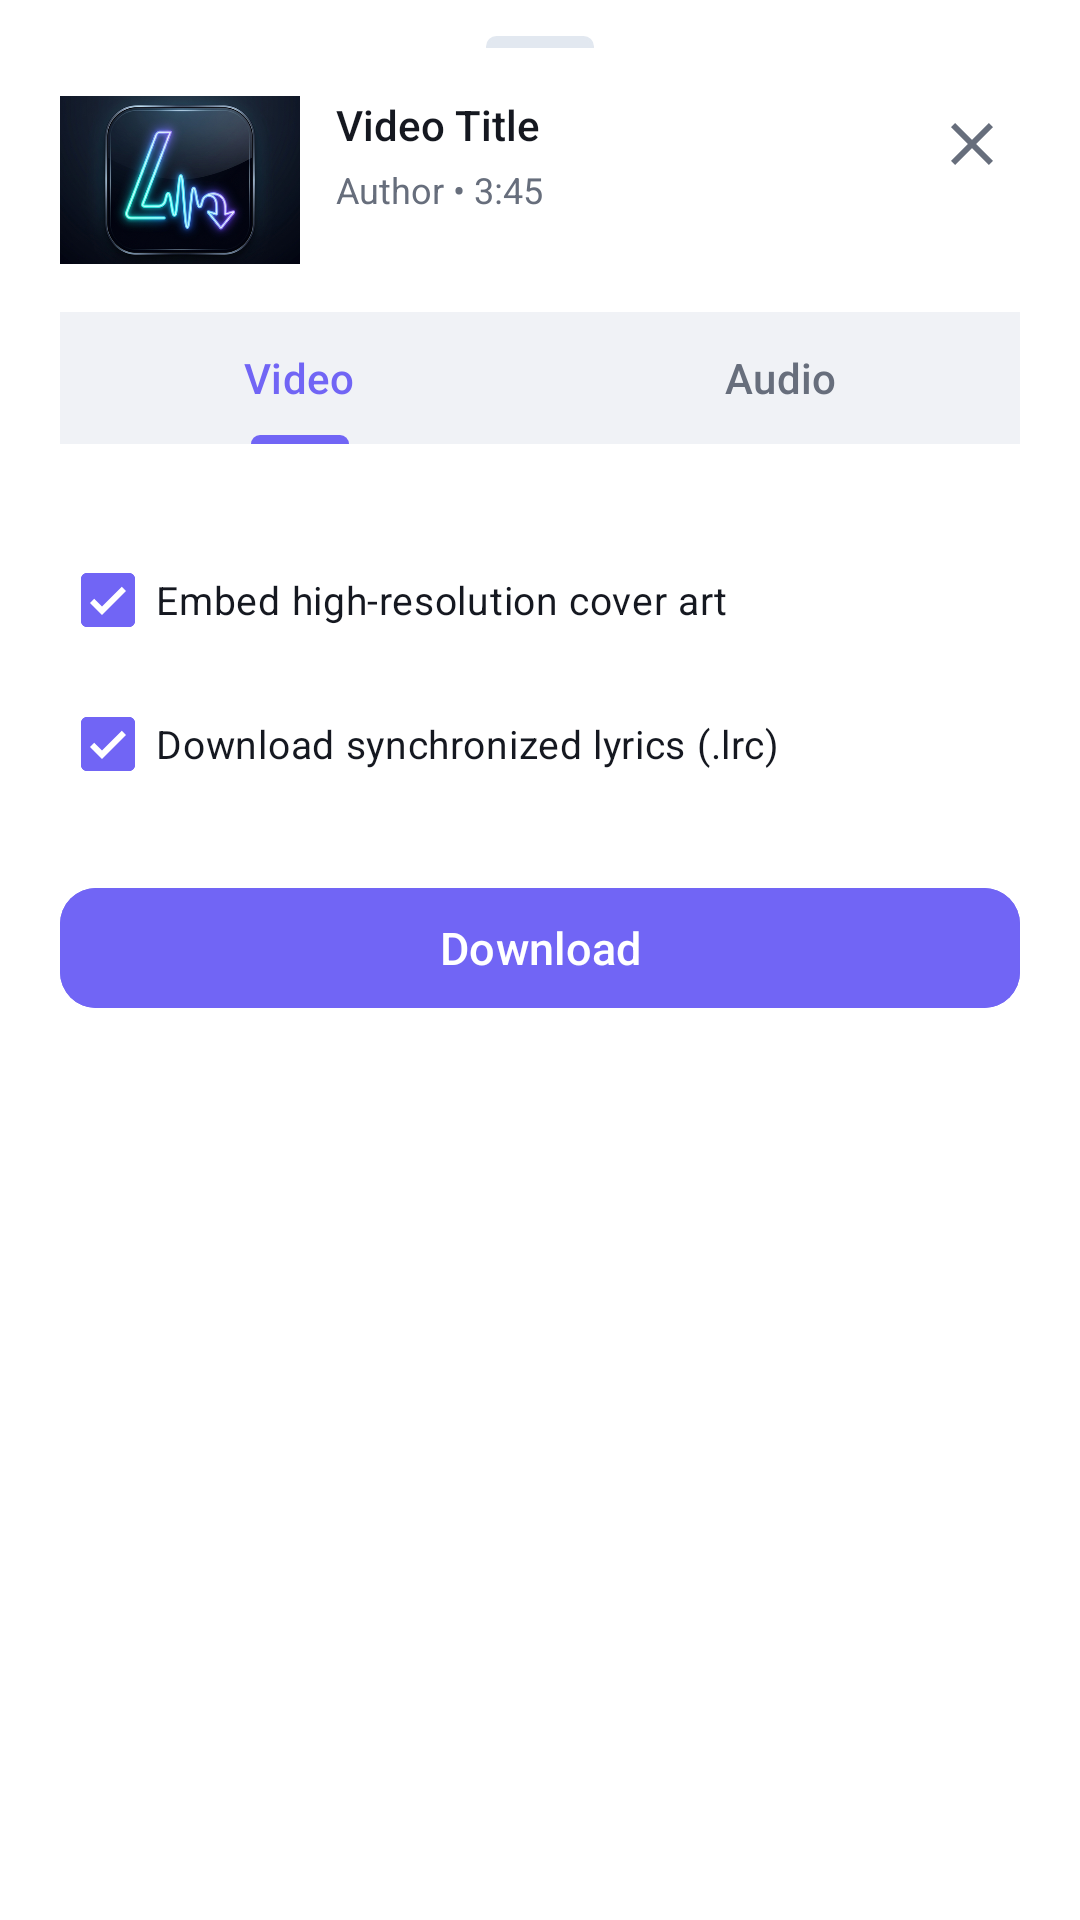

Screen size 1080x1920. Icon name, then its center in pixels as point (x, y):
close: point (972, 144)
